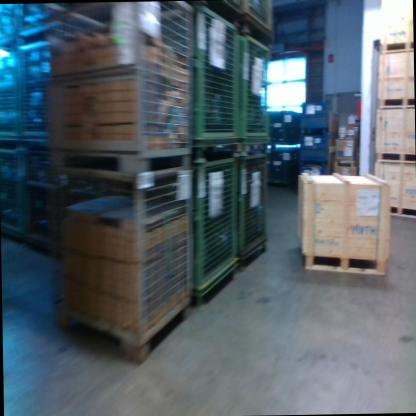stillage: (45, 155, 195, 357), (48, 2, 192, 171), (145, 5, 240, 158), (186, 158, 239, 318), (15, 32, 75, 142), (13, 146, 71, 255), (230, 150, 274, 271), (238, 29, 274, 150), (0, 149, 29, 247), (0, 48, 23, 142), (16, 7, 60, 48), (266, 141, 300, 187), (238, 2, 279, 37), (268, 106, 298, 151), (0, 3, 23, 48)
